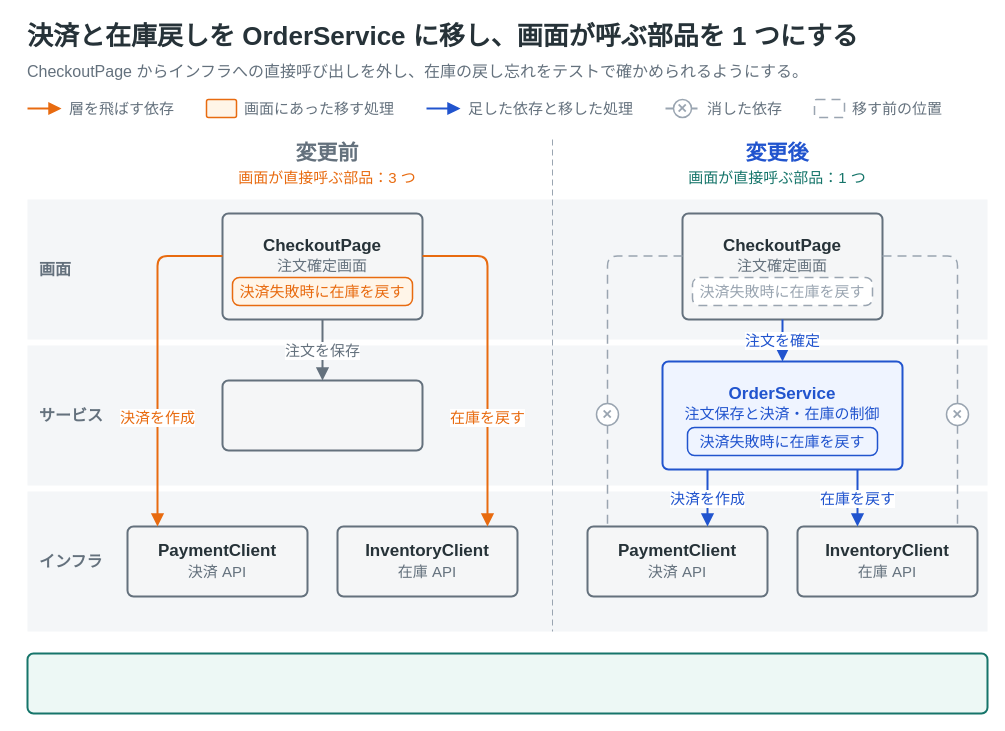
The diagram is 1005 pixels wide and 731 high, and some of its shapes have lost their labels. The shapes that lost their labels are listed below. From the top down, each one's centre as x and y in pixels, then its label:
the point at 322,415: OrderService 注文を保存する
the point at 507,683: 今回の効果 画面は注文の確定を頼むだけになり、在庫の戻し忘れも OrderService のテストで確かめられる。
